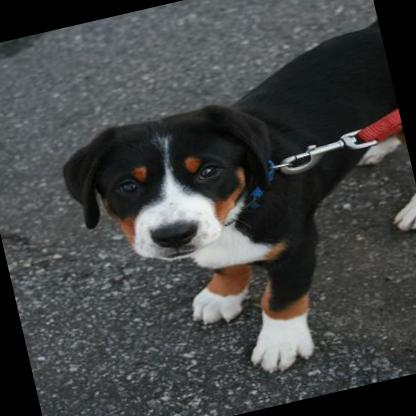Greater_Swiss_Mountain_dog: (41, 19, 416, 410)
